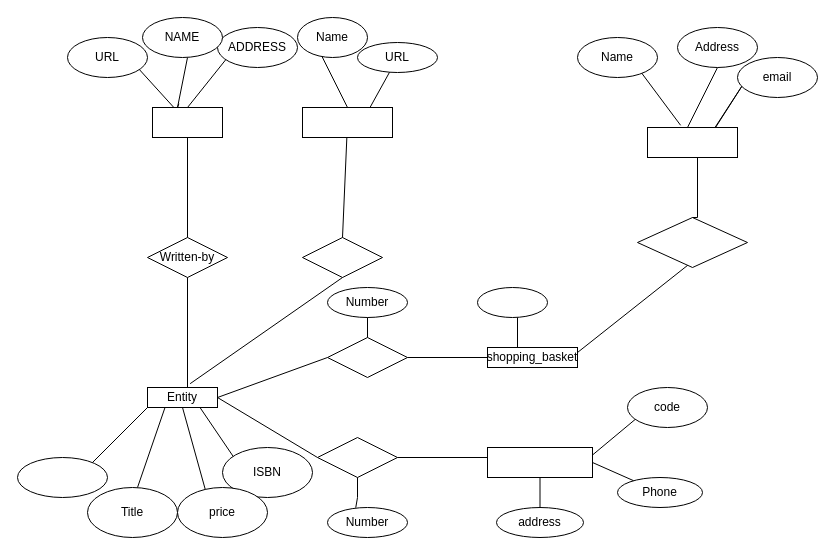
Image size: 835x555. Some labels were removed from this diagram. Each missing label, with the box of its shape:
Author: (152, 106, 222, 138)
Basket_of: (636, 216, 748, 268)
BasketID: (476, 286, 548, 318)
Contains: (326, 336, 408, 378)
Customer: (646, 126, 738, 158)
Published-by: (302, 236, 382, 278)
Published_by: (302, 106, 392, 138)
Stocks: (316, 436, 398, 478)
warehouse: (486, 446, 592, 478)
Year: (16, 456, 108, 498)
